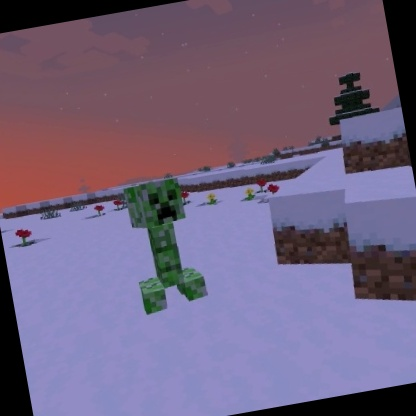creeper: (118, 170, 215, 319)
